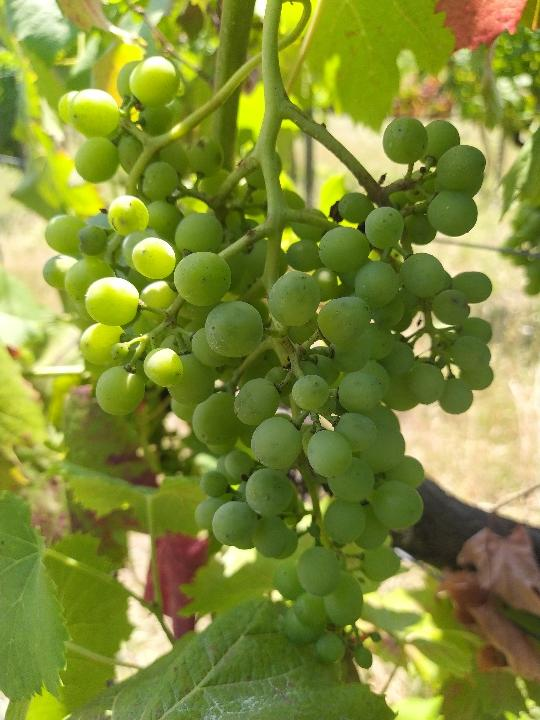grape: (42, 54, 496, 686)
